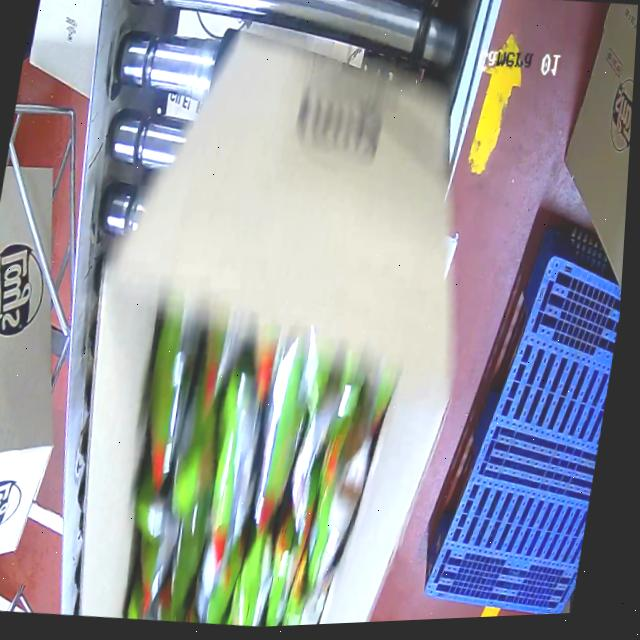YOGURT_HERB: (105, 328, 374, 634)
